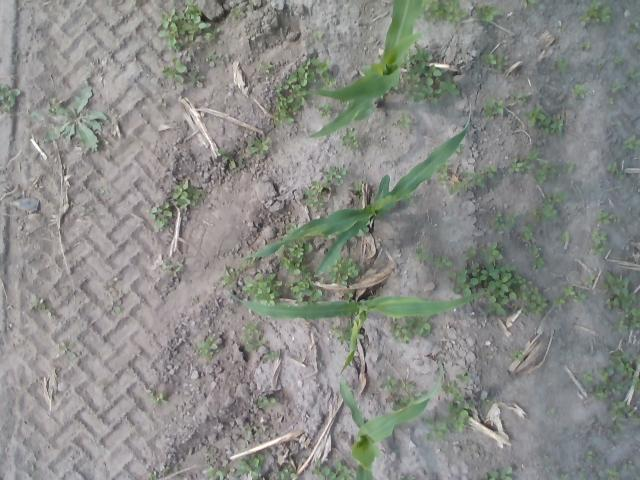Maize: (237, 104, 473, 276), (224, 288, 486, 375), (306, 1, 425, 138), (338, 361, 444, 480)
Weeds: (32, 84, 108, 153), (450, 263, 548, 315), (271, 56, 337, 127), (406, 47, 460, 103), (160, 2, 212, 50), (449, 164, 496, 194), (241, 272, 282, 302), (608, 400, 640, 438), (421, 0, 466, 25), (520, 223, 544, 268), (287, 273, 323, 302), (299, 182, 331, 212), (450, 394, 474, 433), (596, 367, 624, 399), (578, 0, 611, 26), (171, 179, 200, 208), (312, 460, 354, 480), (236, 453, 266, 480), (334, 257, 360, 286), (603, 271, 630, 297), (610, 350, 634, 378), (280, 245, 304, 273), (423, 414, 449, 439), (613, 308, 640, 332), (318, 164, 348, 185), (604, 292, 636, 311), (150, 202, 173, 227), (481, 241, 505, 264), (164, 58, 186, 83), (538, 114, 564, 135), (492, 211, 518, 232), (0, 84, 20, 111), (534, 160, 556, 184), (406, 316, 432, 335), (590, 231, 608, 258), (523, 106, 545, 128), (198, 335, 218, 358), (485, 98, 505, 121), (530, 204, 558, 220), (331, 324, 352, 345), (216, 148, 236, 168), (162, 258, 182, 278), (482, 467, 512, 480), (482, 52, 504, 68), (476, 6, 498, 22), (342, 127, 358, 148), (250, 136, 272, 151), (242, 320, 260, 338), (607, 161, 625, 178), (621, 134, 640, 150), (205, 50, 223, 66), (186, 70, 202, 88), (438, 163, 451, 185), (60, 341, 76, 358), (147, 389, 165, 404), (279, 465, 297, 480), (206, 467, 226, 480), (30, 298, 46, 314), (380, 374, 396, 390), (507, 156, 523, 172), (394, 114, 412, 128), (442, 381, 460, 395), (524, 149, 536, 170), (244, 338, 264, 350), (552, 57, 568, 72), (317, 103, 334, 117), (222, 268, 235, 286), (434, 257, 452, 270), (517, 92, 532, 106), (402, 389, 421, 400), (624, 378, 640, 391), (597, 212, 614, 224), (391, 324, 408, 336), (262, 350, 280, 361), (259, 396, 277, 407), (562, 283, 576, 296), (572, 84, 585, 98), (415, 248, 430, 260), (582, 367, 592, 384), (575, 290, 587, 304), (230, 5, 242, 18), (260, 61, 272, 74), (612, 78, 624, 91), (108, 301, 122, 312), (609, 465, 620, 479), (586, 450, 598, 462), (206, 30, 220, 40), (555, 192, 569, 202), (457, 371, 470, 381), (514, 350, 526, 360), (312, 31, 322, 41), (403, 380, 413, 390), (464, 248, 474, 258), (96, 187, 110, 194), (552, 298, 564, 306), (484, 350, 494, 359), (624, 460, 634, 469), (584, 274, 594, 283), (630, 23, 639, 33), (562, 232, 570, 243), (304, 241, 312, 252), (45, 308, 55, 316), (629, 70, 639, 78), (582, 41, 592, 49), (524, 0, 534, 8), (614, 55, 623, 63), (245, 431, 252, 441), (606, 97, 614, 105), (544, 195, 552, 203), (580, 467, 586, 477), (546, 408, 556, 414), (402, 336, 409, 344), (562, 474, 570, 479), (635, 354, 640, 362), (542, 454, 548, 460), (597, 62, 603, 68), (508, 92, 514, 98), (570, 164, 574, 171)
